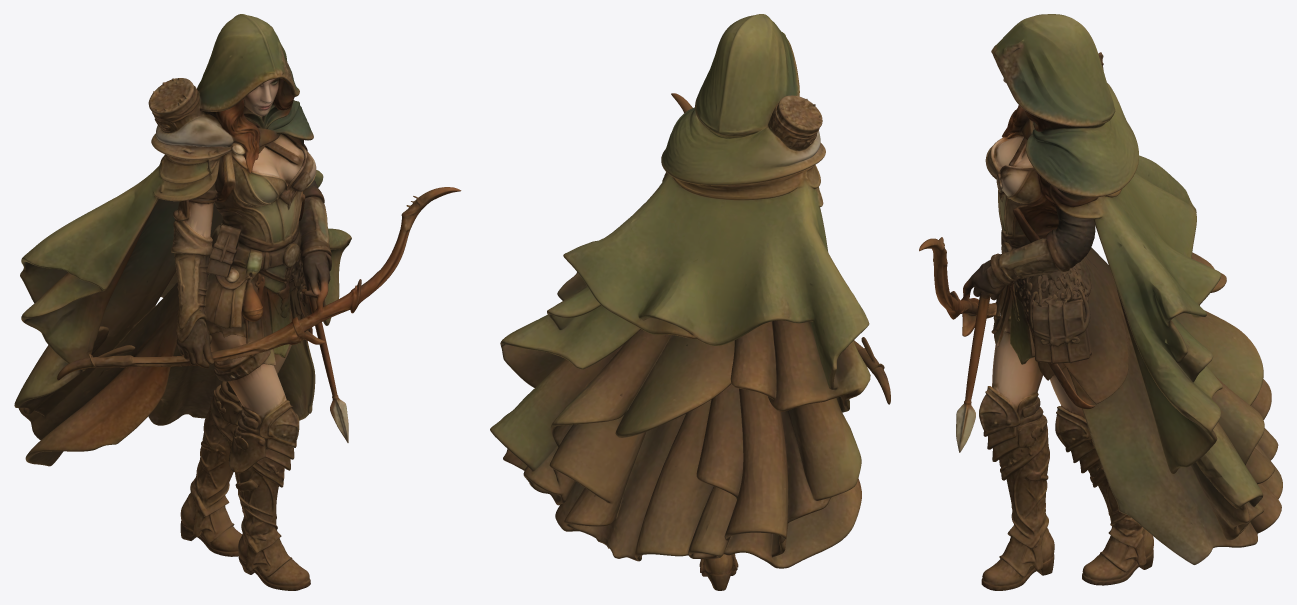
File: ranger_full_female_01.glb
3 renders of one model, left to right at view 1: azimuth 30°, elevation 25°; view 2: azimuth 150°, elevation 25°; view 3: azimuth 270°, elevation 25°, orthographic. The views are drawn at different scales.
Visible parts, largest first — view 1: material; view 2: material; view 3: material.
Boxes of the visible parts, left/top/right/bottom form: material: left=14, top=14, right=461, bottom=590; material: left=490, top=14, right=890, bottom=590; material: left=919, top=14, right=1282, bottom=590.
Bounding box in the file's own units: 0.746 × 1.12 × 0.6563.
Materials: 1 (1 with a texture image).
